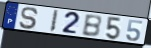2: (60, 12, 83, 36)
5: (125, 19, 144, 43), (105, 16, 122, 41)
B: (81, 14, 103, 38)
I: (48, 9, 60, 34)
S: (18, 6, 40, 31)
